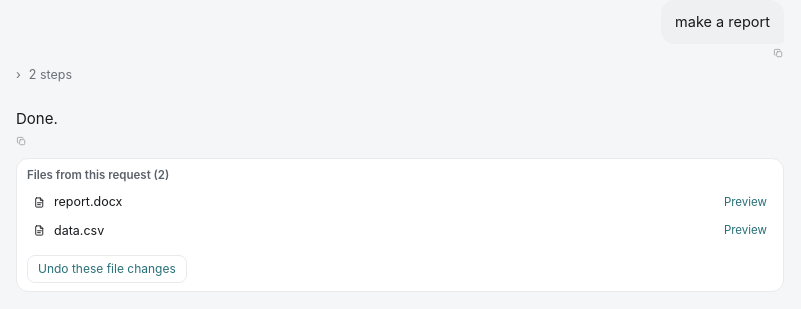
Test case: undoing a request's file changes › asks first, undoes the run it came from, and says what was done and what was left alone
The image size is (801, 309).
Click the button with test id "undo-run-files": [107, 269] box [27,255,187,283]
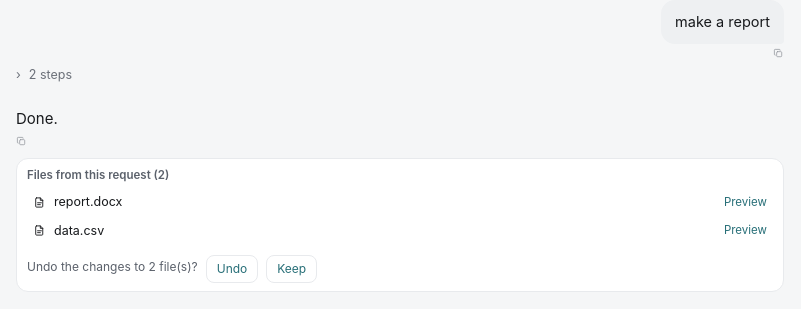
Expected: the element with test id "delivery-undo" shows "2 file(s)", [27,259,198,274]
Click the button with test id "undo-run-files-cancel": [292, 269] box [266,255,317,283]
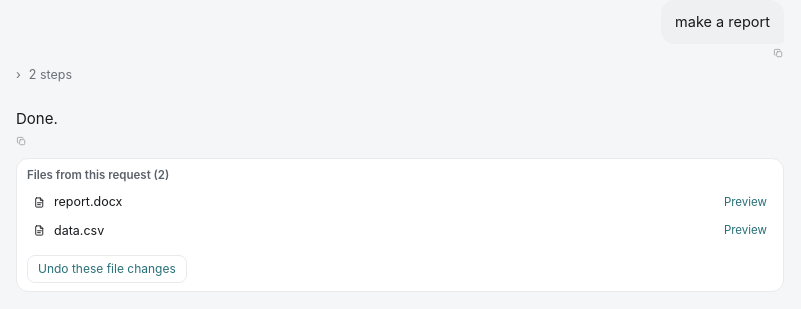
Expected: the button with test id "undo-run-files" is shown
Click the button with test id "undo-run-files": [107, 269] box [27,255,187,283]
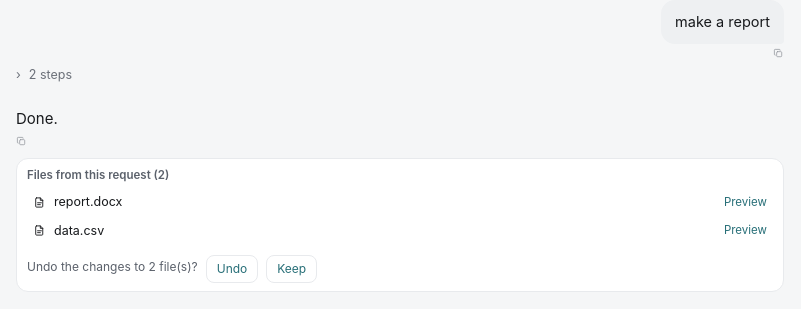
Click the button with test id "undo-run-files-confirm": [232, 269] box [206,255,258,283]
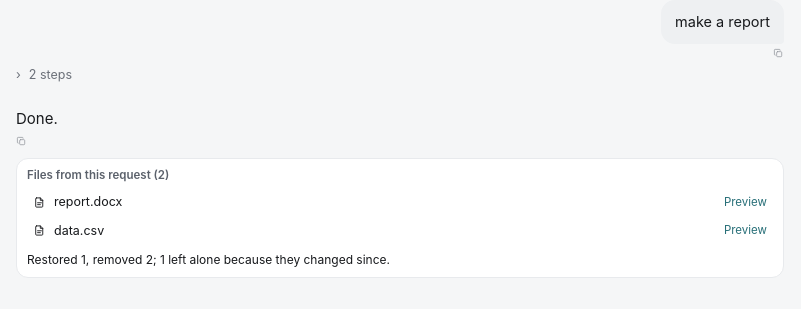
Expected: the text with test id "undo-run-files-result" reads "Restored 1, removed 2; 1 left alone because they changed since.", [27,252,390,267]
